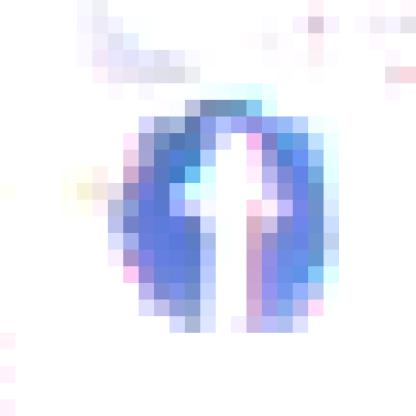AheadOnly: (94, 84, 325, 334)
